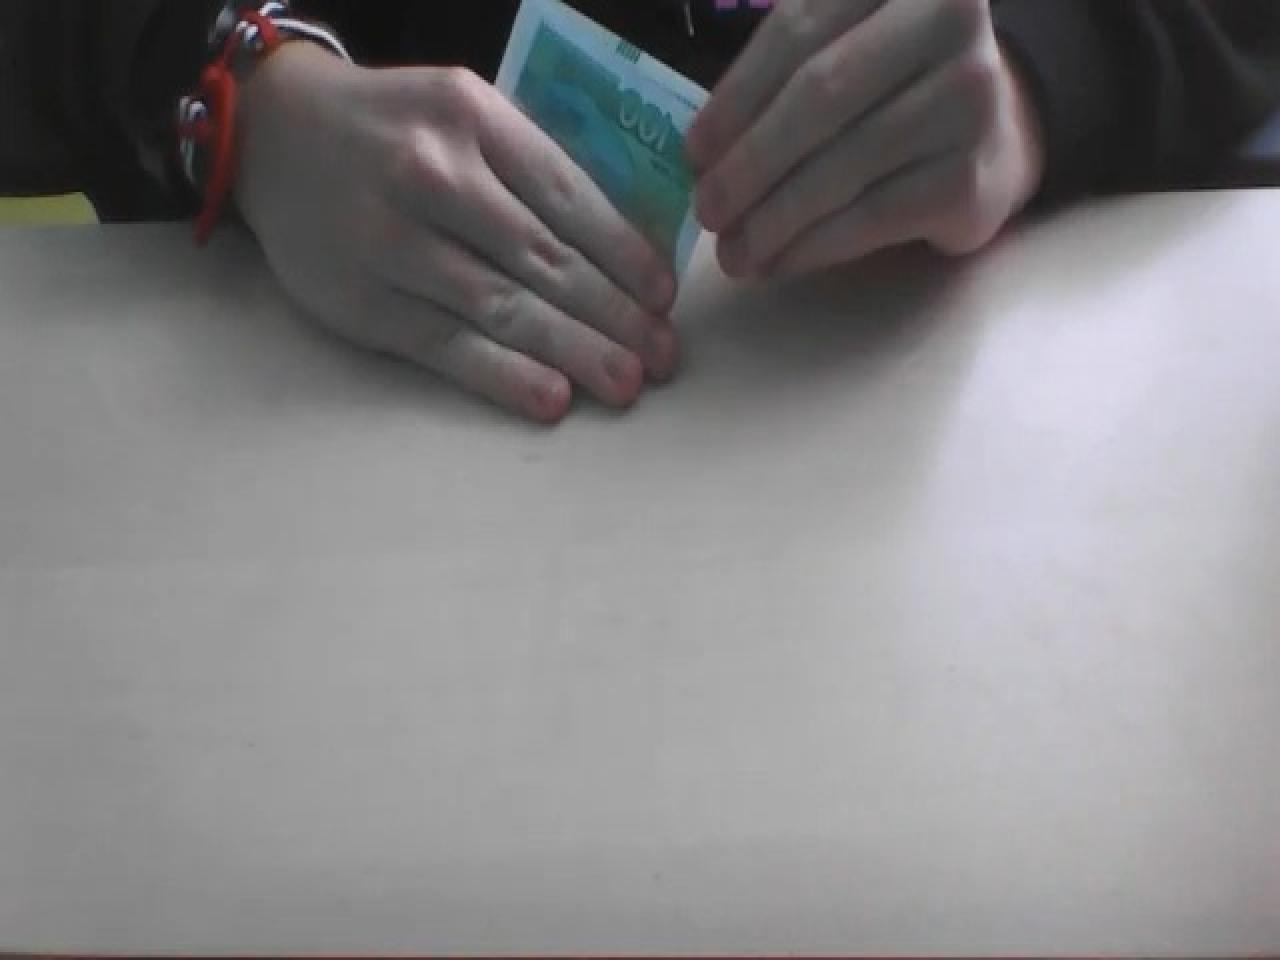100leva: (492, 0, 712, 253)
